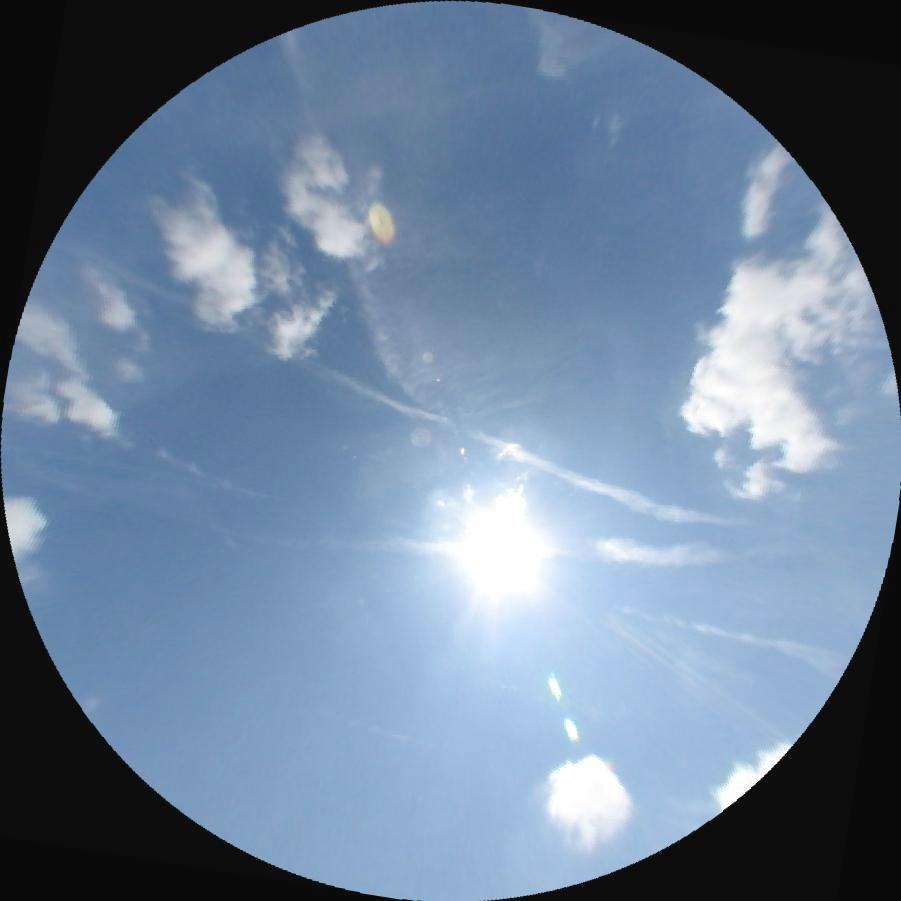contrail veryold: (61, 241, 752, 556), (359, 524, 737, 568)
parasite: (2, 439, 288, 501)
sun: (470, 509, 546, 581)
unknow: (617, 603, 848, 680)
